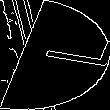L_W: (10, 34, 100, 76)
